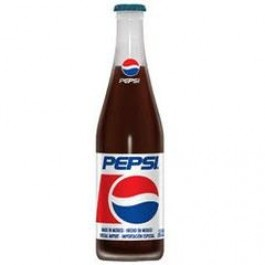pepsi: (108, 173, 157, 222), (108, 175, 157, 222), (111, 175, 157, 222), (121, 56, 140, 74)
